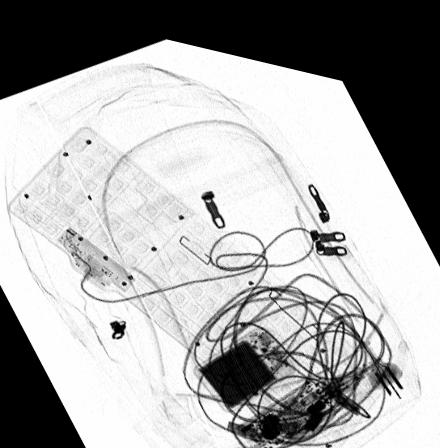Powerbank: (192, 315, 293, 403)
